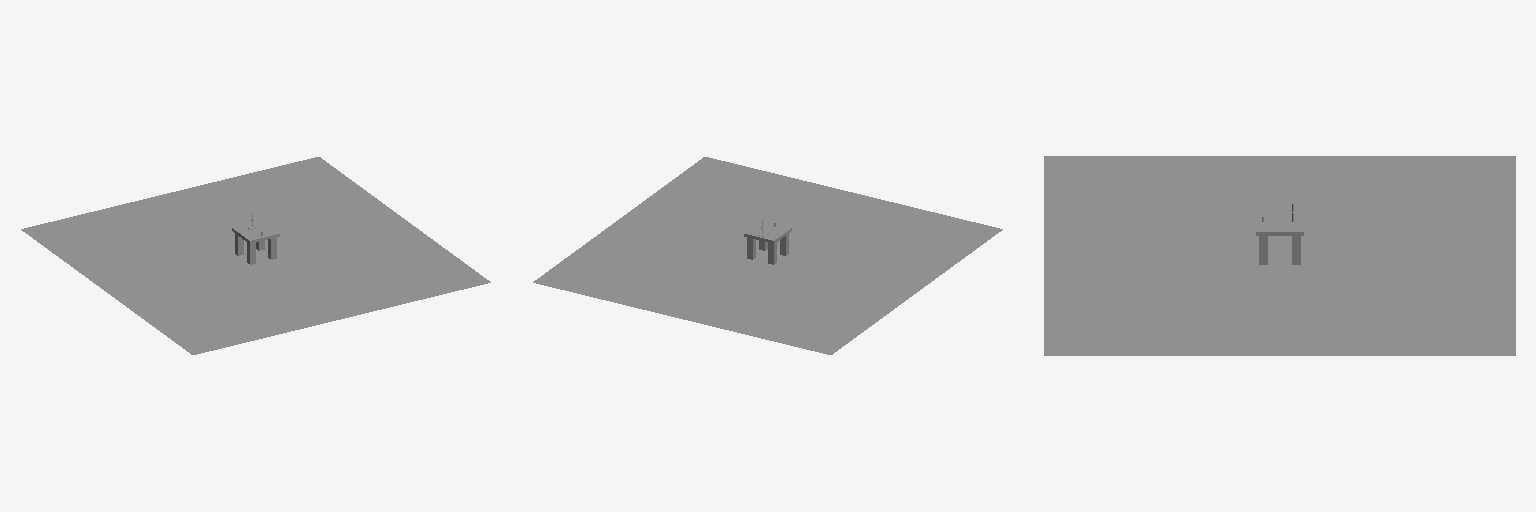
The robot description file, URDF, robot "scene":
<?xml version="1.0"?>
<!-- created with Phobos 1.0.1 "Capricious Choutengan" -->
  <robot name="scene">

    <link name="arm_1_link">
      <inertial>
        <origin xyz="0 0.19559 4e-05" rpy="0 0 0"/>
        <mass value="0.12"/>
        <inertia ixx="0.00163" ixy="0" ixz="0" iyy="5e-05" iyz="0" izz="0.00163"/>
      </inertial>
      <visual name="Arm section 1">
        <origin xyz="0 0.19559 4e-05" rpy="1.5708 0 0"/>
        <geometry>
          <cylinder radius="0.03" length="0.4"/>
        </geometry>
        <material name="Material.003"/>
      </visual>
      <collision name="Arm section 1">
        <origin xyz="0 0.19559 4e-05" rpy="1.5708 0 0"/>
        <geometry>
          <cylinder radius="0.03" length="0.4"/>
        </geometry>
      </collision>
    </link>

    <link name="arm_base_link">
      <inertial>
        <origin xyz="0 0 0.4195" rpy="0 0 0"/>
        <mass value="0.45"/>
        <inertia ixx="0.05497" ixy="0" ixz="0" iyy="0.05497" iyz="0" izz="0.01668"/>
      </inertial>
      <visual name="Arm base">
        <origin xyz="0 0 0.4195" rpy="0 0 0"/>
        <geometry>
          <mesh filename="..\meshes\dae\Sphere.dae" scale="1.0 1.0 1.0"/>
        </geometry>
        <material name="Material.004"/>
      </visual>
      <collision name="Arm base.000">
        <origin xyz="0 0 0.4195" rpy="0 0 0"/>
        <geometry>
          <mesh filename="..\meshes\dae\Sphere.001.dae" scale="1.0 1.0 1.0"/>
        </geometry>
      </collision>
    </link>

    <link name="root">
      <inertial>
        <origin xyz="0 0 0" rpy="0 0 0"/>
        <mass value="100000.0"/>
        <inertia ixx="3333333.25" ixy="0" ixz="0" iyy="3333333.25" iyz="0" izz="6666666.5"/>
      </inertial>
      <visual name="Groundplane">
        <origin xyz="0 0 0" rpy="0 0 0"/>
        <geometry>
          <box size="20.0 20.0 0"/>
        </geometry>
        <material name="Material"/>
      </visual>
      <collision name="Groundplane">
        <origin xyz="0 0 -0.0001" rpy="0 0 0"/>
        <geometry>
          <box size="20.0 20.0 0"/>
        </geometry>
      </collision>
    </link>

    <link name="soda_can_link">
      <inertial>
        <origin xyz="0 0 0" rpy="0 0 0"/>
        <mass value="0.04"/>
        <inertia ixx="0.00023" ixy="0" ixz="0" iyy="0.00023" iyz="0" izz="7e-05"/>
      </inertial>
      <visual name="Soda Can">
        <origin xyz="0 0 0" rpy="0 0 0"/>
        <geometry>
          <cylinder radius="0.06" length="0.24"/>
        </geometry>
        <material name="Material.002"/>
      </visual>
      <collision name="Soda Can">
        <origin xyz="0 0 0" rpy="0 0 0"/>
        <geometry>
          <cylinder radius="0.06" length="0.24"/>
        </geometry>
      </collision>
    </link>

    <link name="table_link">
      <inertial>
        <origin xyz="0 0 0" rpy="0 0 0"/>
        <mass value="68.0"/>
        <inertia ixx="50.28507" ixy="0" ixz="0" iyy="50.28507" iyz="0" izz="44.98273"/>
      </inertial>
      <visual name="1m Table">
        <origin xyz="0 0 0" rpy="0 0 0"/>
        <geometry>
          <mesh filename="..\meshes\dae\1m Table.dae" scale="1.0 1.0 1.0"/>
        </geometry>
        <material name="Material.001"/>
      </visual>
      <collision name="1m Table.000">
        <origin xyz="0 0 0" rpy="0 0 0"/>
        <geometry>
          <mesh filename="..\meshes\dae\Cube.002.dae" scale="1.0 1.0 1.0"/>
        </geometry>
      </collision>
    </link>

    <joint name="arm_1_link" type="fixed">
      <origin xyz="0 0 0.45848" rpy="1.5708 0 0"/>
      <parent link="arm_base_link"/>
      <child link="arm_1_link"/>
      <limit effort="0" velocity="0"/>
    </joint>

    <joint name="arm_base_link" type="floating">
      <origin xyz="0.0656 0.55642 1.6248" rpy="0 0 0"/>
      <parent link="root"/>
      <child link="arm_base_link"/>
      <limit effort="0" velocity="0"/>
    </joint>

    <joint name="soda_can_link" type="floating">
      <origin xyz="-0.03638 -0.72384 1.73349" rpy="0 0 0"/>
      <parent link="root"/>
      <child link="soda_can_link"/>
      <limit effort="0" velocity="0"/>
    </joint>

    <joint name="table_link" type="floating">
      <origin xyz="0 0 1.5" rpy="0 0 0"/>
      <parent link="root"/>
      <child link="table_link"/>
      <limit effort="0" velocity="0"/>
    </joint>

    <material name="Material">
      <color rgba="0.64 0.64 0.64 1.0"/>
    </material>

    <material name="Material.001">
      <color rgba="0.64 0.64 0.64 1.0"/>
    </material>

    <material name="Material.002">
      <color rgba="0.64 0.64 0.64 1.0"/>
    </material>

    <material name="Material.003">
      <color rgba="0.64 0.64 0.64 1.0"/>
    </material>

    <material name="Material.004">
      <color rgba="0.64 0.64 0.64 1.0"/>
    </material>

  </robot>

--- Render facts (derived) ---
Views: 3 orthographic renders of the robot side by side, from view 1: azimuth 30°, elevation 25°; view 2: azimuth 150°, elevation 25°; view 3: azimuth 270°, elevation 25°.
Robot: scene — 5 links, 4 joints (1 fixed, 3 floating); root link root; default pose: every joint at zero.
Visible links, largest first — view 1: root, table_link; view 2: root, table_link; view 3: root, table_link.
Link boxes in pixels (bbox=[...]): root: bbox=[21, 157, 490, 354]; table_link: bbox=[232, 221, 279, 264]; root: bbox=[533, 157, 1002, 354]; table_link: bbox=[744, 221, 791, 264]; root: bbox=[1044, 156, 1515, 355]; table_link: bbox=[1256, 212, 1303, 264].
Bounding box of the posed robot: 20 × 20 × 2.48 m (x, y, z).
Meshes: 2 distinct files referenced, 2 mesh visuals loaded (2 Collada DAE).
